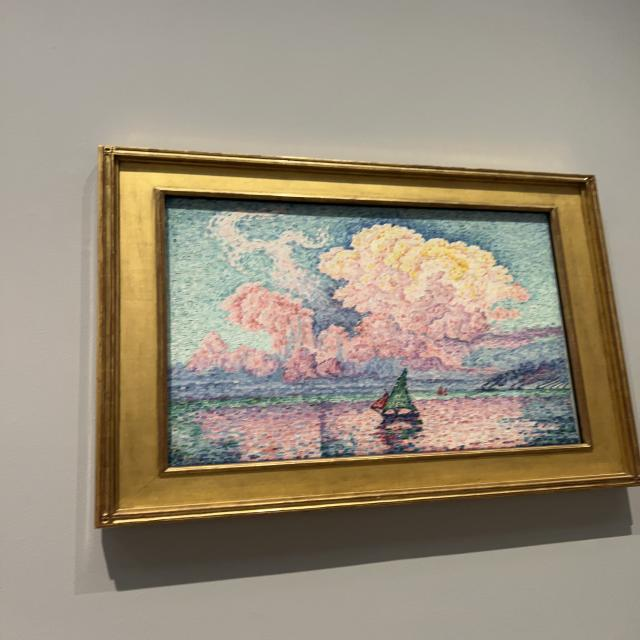sunrise: (171, 198, 578, 460)
